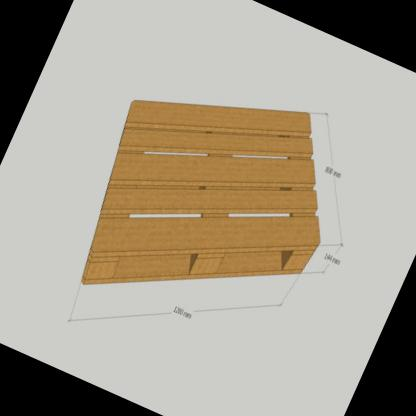BoxFace: (79, 99, 321, 288)
